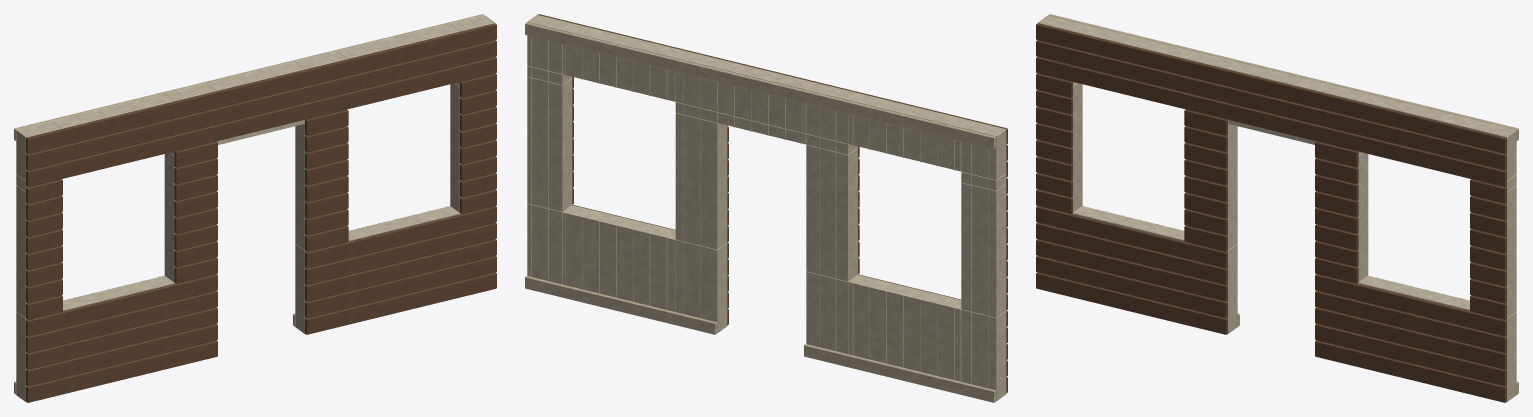
File: cabin_wall_front.glb
The picture shows the model from 3 angles, left to right: view 1: azimuth 30°, elevation 25°; view 2: azimuth 150°, elevation 25°; view 3: azimuth 330°, elevation 25°; orthographic projection.
Visible parts, largest first — view 1: Wall_with_openings; view 2: Wall_with_openings; view 3: Wall_with_openings.
Part boxes in pixels (x1,y1,x2,y2): Wall_with_openings: (14,14,496,402); Wall_with_openings: (525,14,1007,402); Wall_with_openings: (1036,14,1518,402).
Bounding box in the file's own units: 5 × 2.7 × 0.256.
3 materials, 3 textured.
